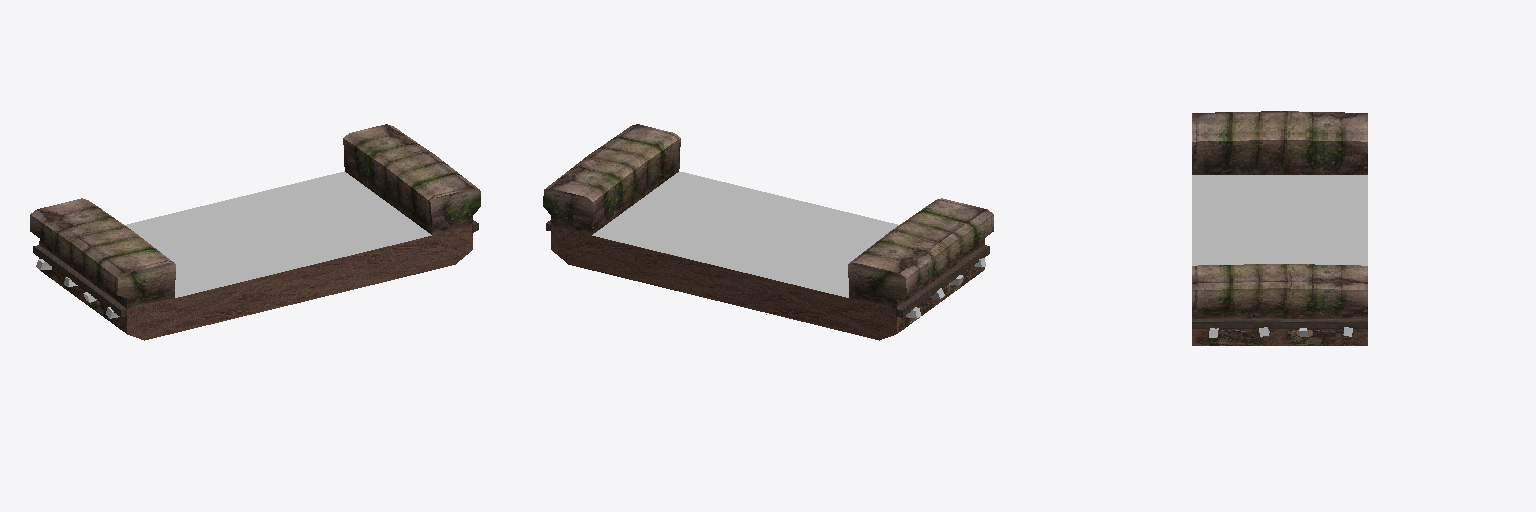
3 renders of one model, left to right at view 1: azimuth 30°, elevation 25°; view 2: azimuth 150°, elevation 25°; view 3: azimuth 270°, elevation 25°, orthographic.
Parts seen in each view (by area): view 1: Node 0; view 2: Node 0; view 3: Node 0.
Part boxes in pixels (bbox=[...]): Node 0: bbox=[30, 124, 480, 340]; Node 0: bbox=[543, 124, 993, 340]; Node 0: bbox=[1192, 111, 1367, 345].
Size of the model in its own units: 24.3 by 7.45 by 10.01.
Materials: 3 (2 with a texture image).